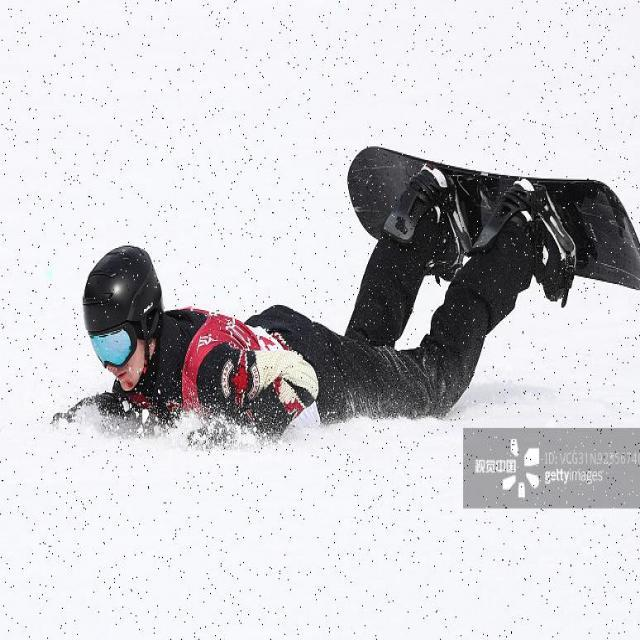fall: (80, 198, 548, 448)
